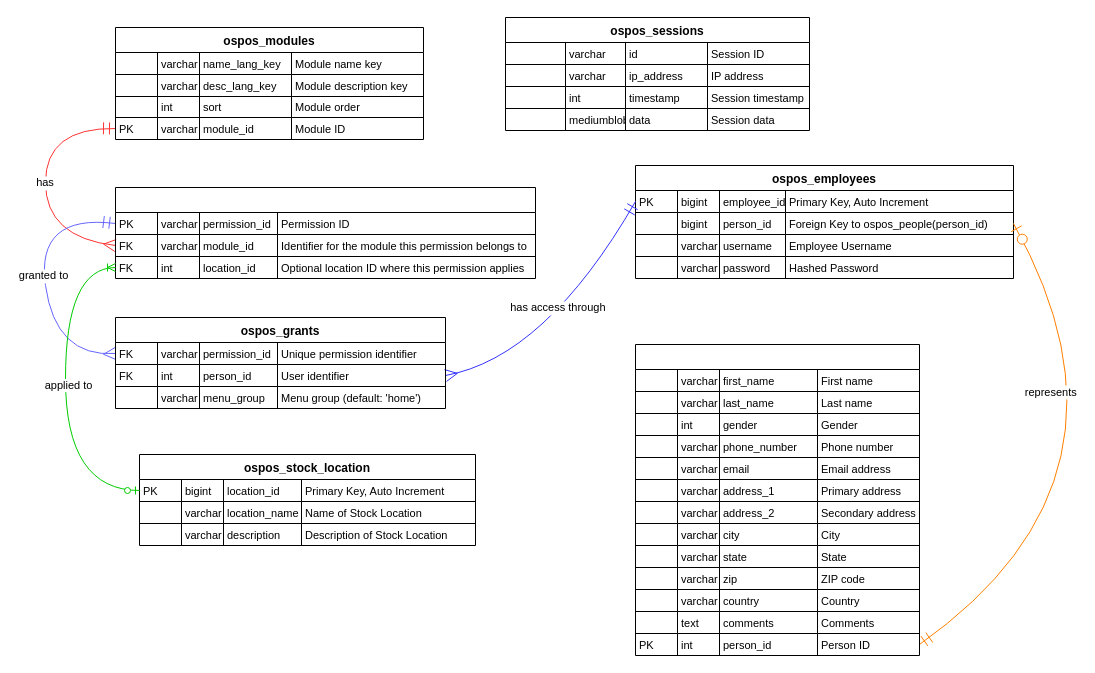
The diagram is 1095 pixels wide and 673 high, and some of its shapes have lost their labels. The shapes that lost their labels are listed below. From the top down, each one's box as (x1, y1, x2, y2) in pixels, then its label:
(114, 186, 536, 278): ospos_permissions
(634, 344, 920, 656): ospos_people
